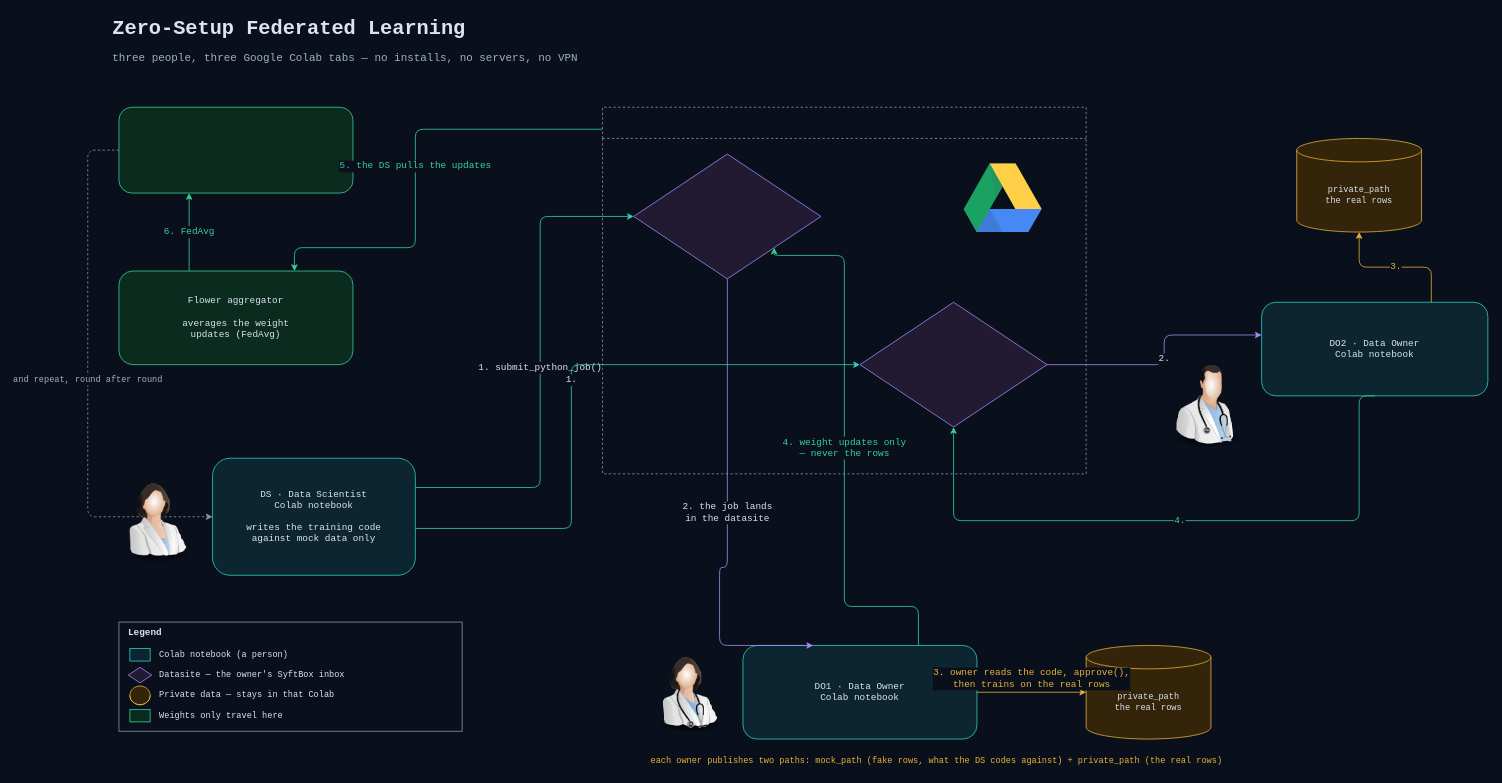
The diagram is 1502 pixels wide and 783 high, and some of its shapes have lost their labels. The shapes that lost their labels are listed below. From the top down, each one's box as (x1, y1, x2, y2) in pixels, then its label:
(118, 106, 353, 193): Global model trained on data the data scientist never saw
(633, 153, 821, 279): DO1's datasite
(602, 106, 1086, 474): SyftBox network — syncs over each user's own Google Drive
(859, 301, 1047, 427): DO2's datasite
